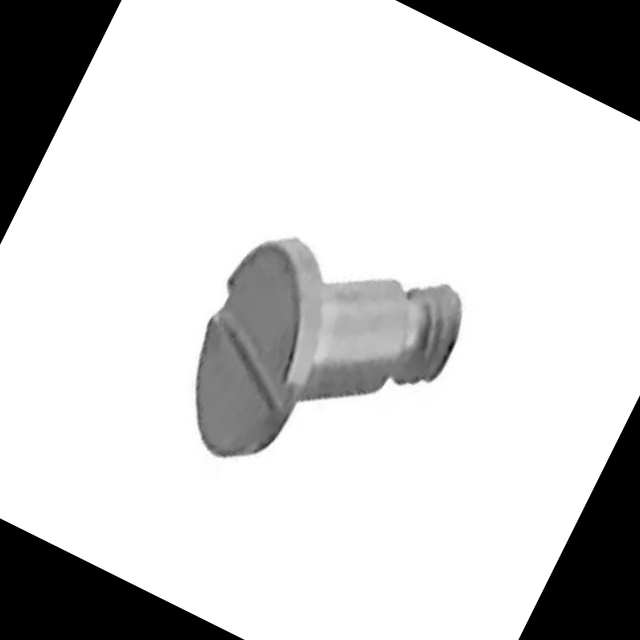duz: (154, 216, 361, 478)
